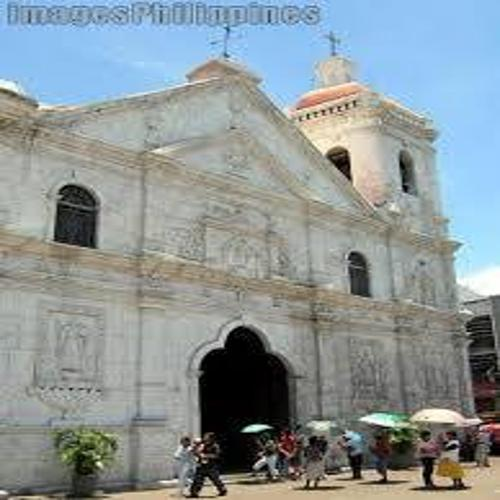Sto. Nino Basilica Church: (21, 23, 481, 464)
